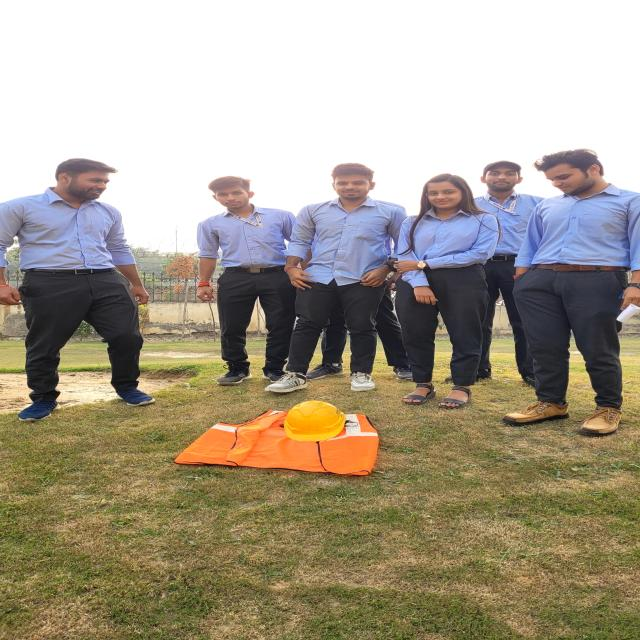unsafe: (2, 153, 162, 415), (505, 151, 635, 434), (174, 172, 285, 388), (294, 163, 393, 398), (397, 169, 477, 411), (468, 159, 537, 382)
